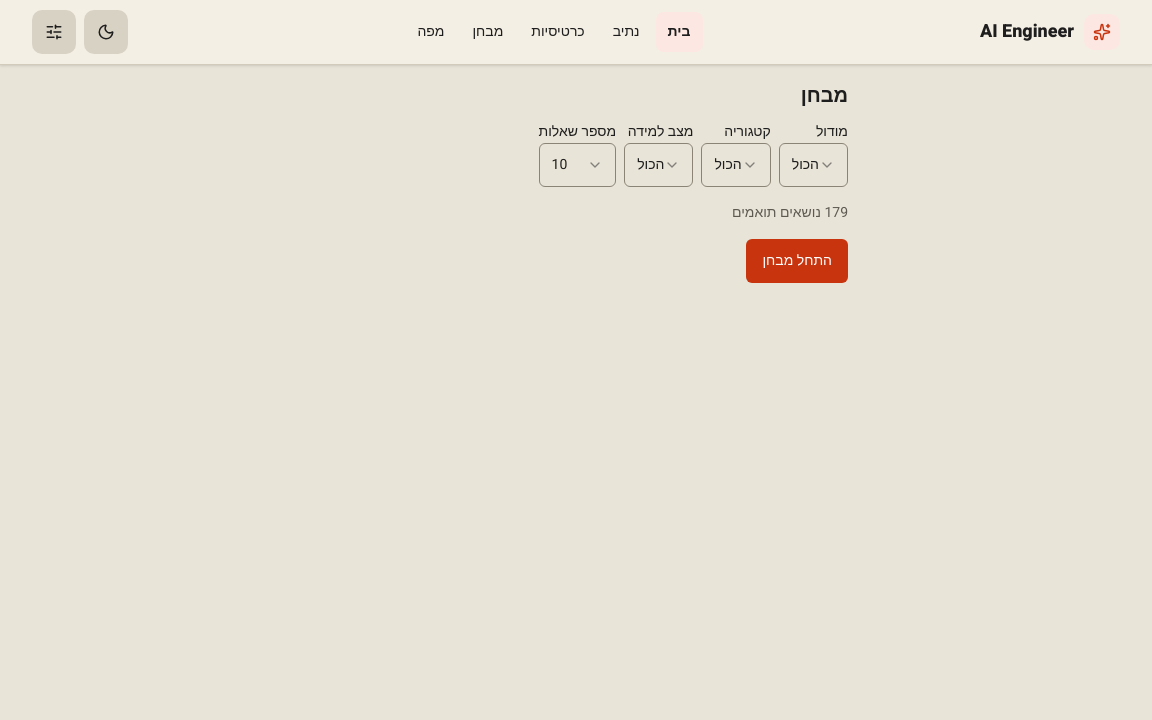
Test: Quiz › selects via number keys 1-4 and advances via Enter
Click the dropdown named "מצב למידה". click: point(659, 165)
box: 624,143 -> 694,187
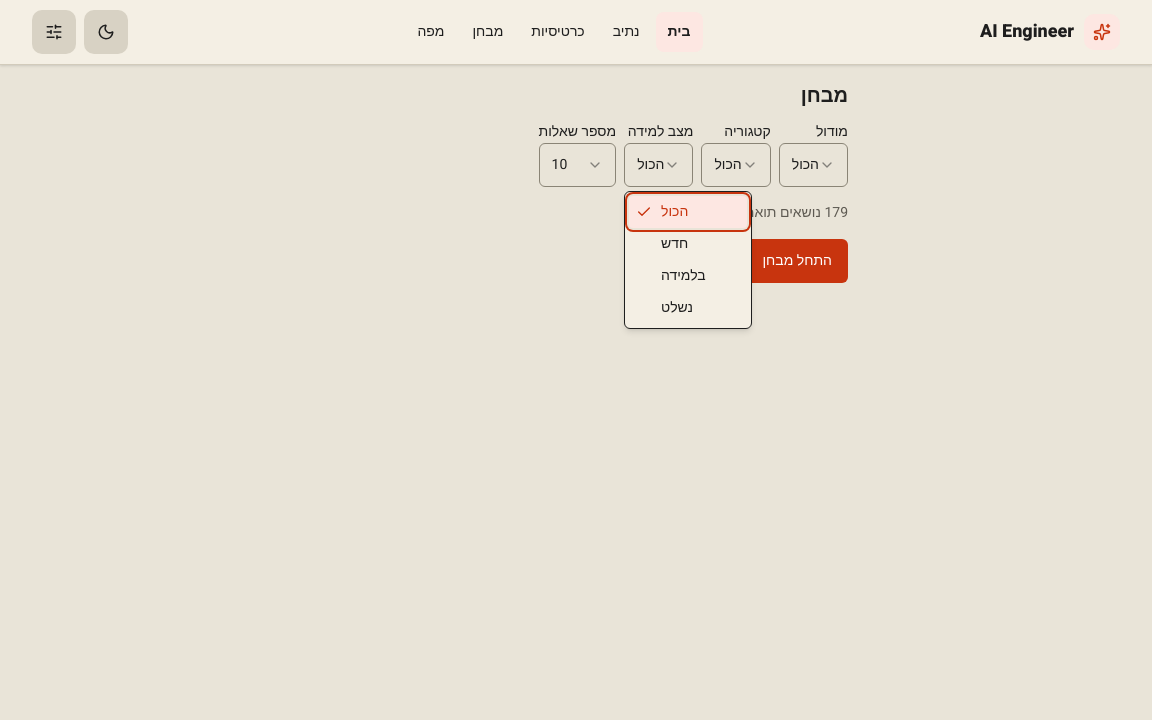
Click the option "חדש". click: point(675, 244)
box: 661,233 -> 688,254
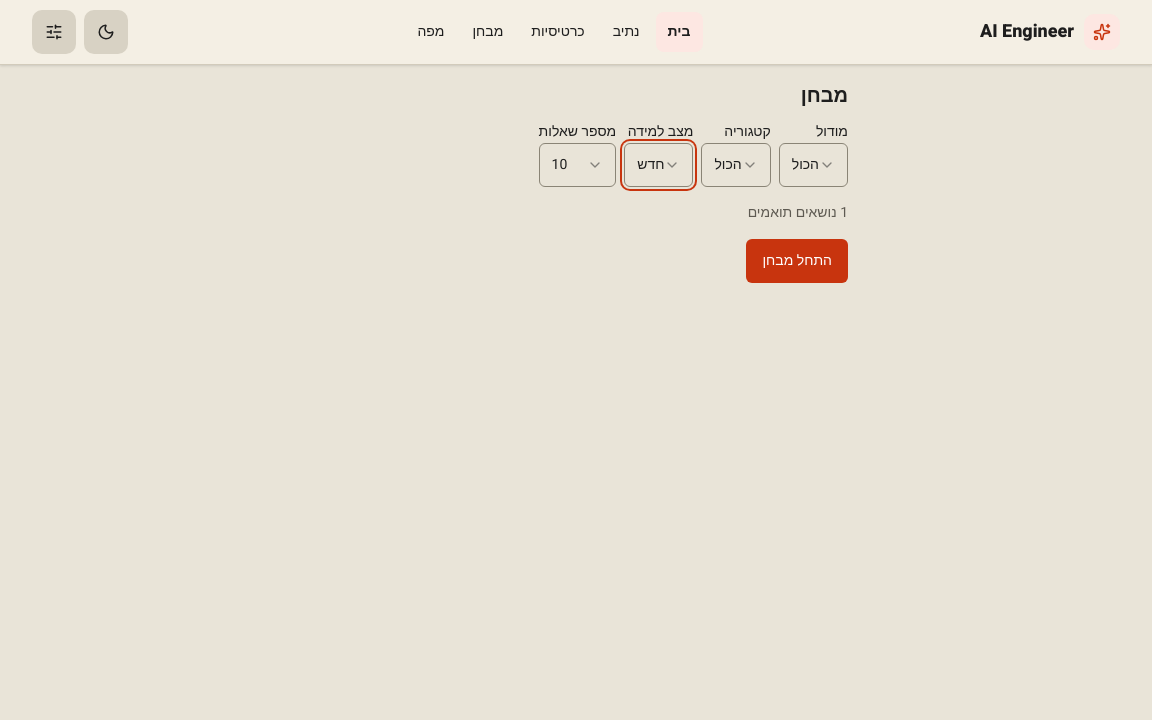
Click the button "התחל מבחן". click: point(797, 261)
box: 746,239 -> 848,283
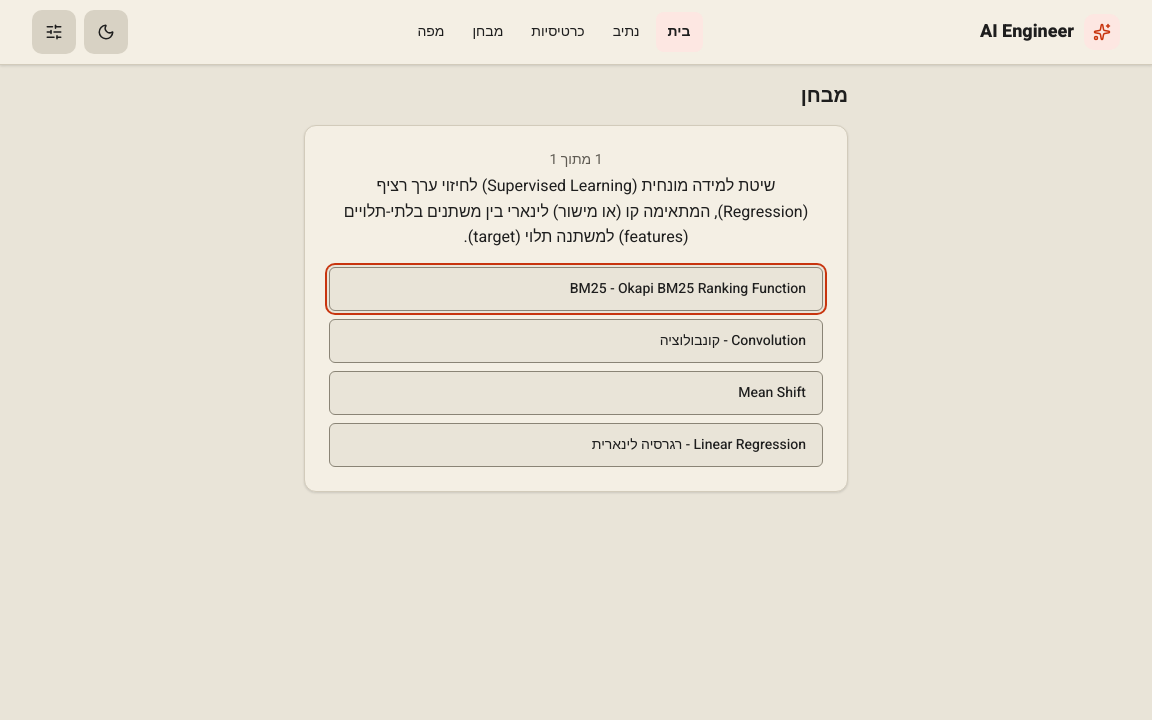
Type keys "1"
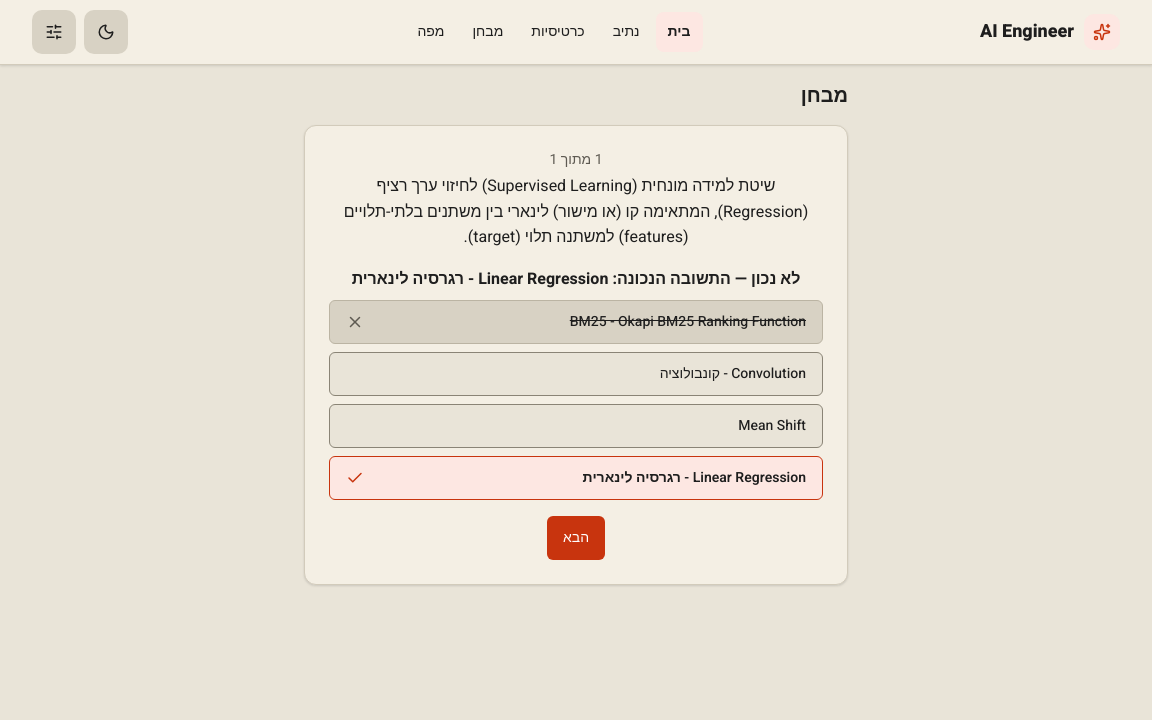
Check: the button "הבא" is shown, box 547,516 -> 605,560
Press Enter
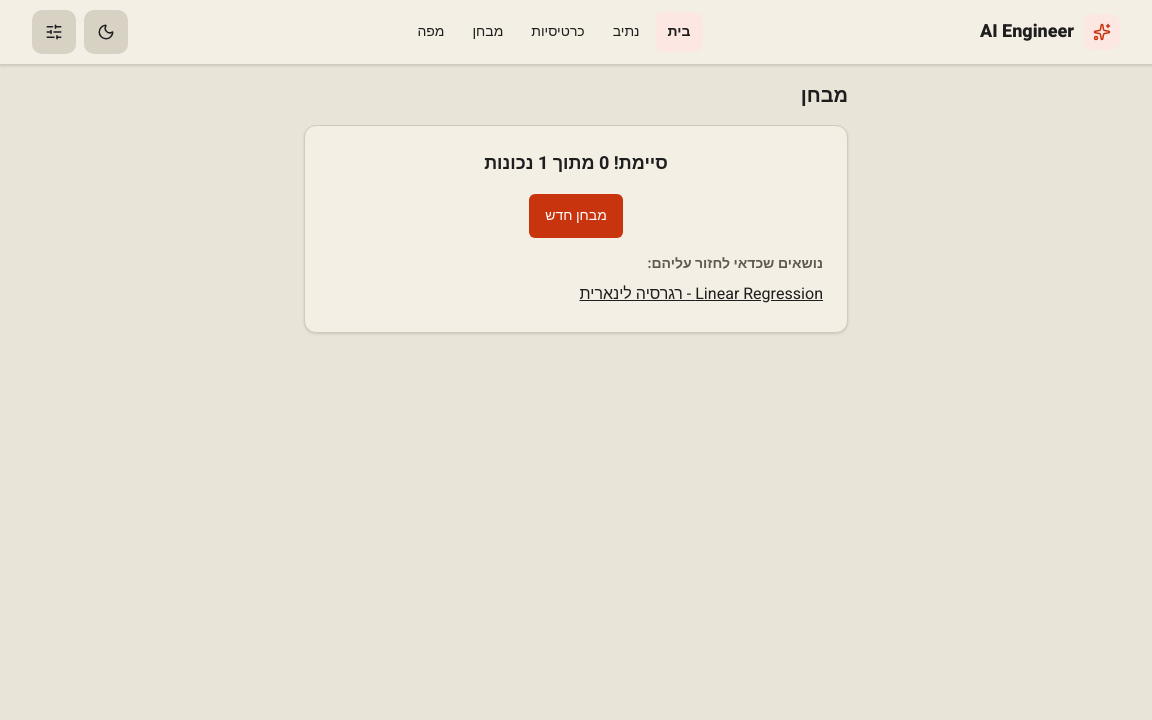
Check: the message is shown, box 304,125 -> 848,333
